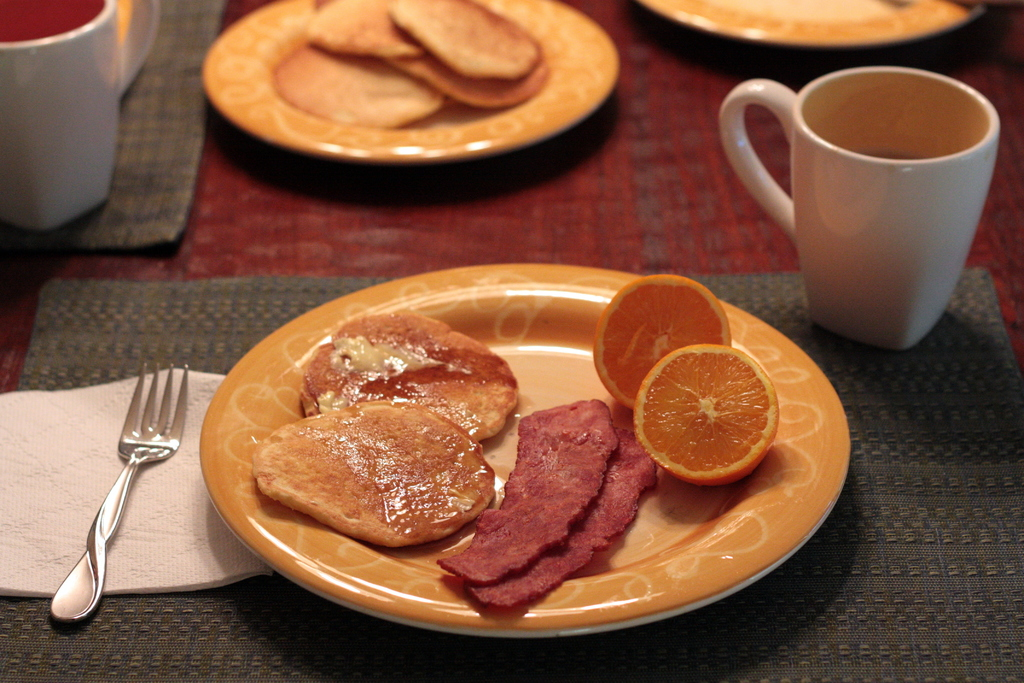Ripe: (631, 347, 780, 485), (596, 274, 735, 413)
